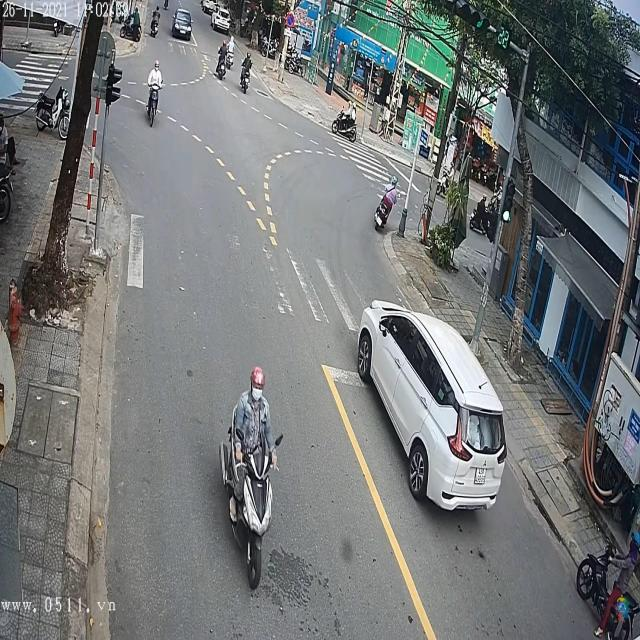car: (357, 300, 511, 512), (172, 8, 194, 40)
motorcycle: (218, 419, 280, 596), (576, 536, 640, 640), (332, 105, 358, 146), (373, 187, 391, 234), (146, 76, 161, 129), (239, 56, 252, 90)
